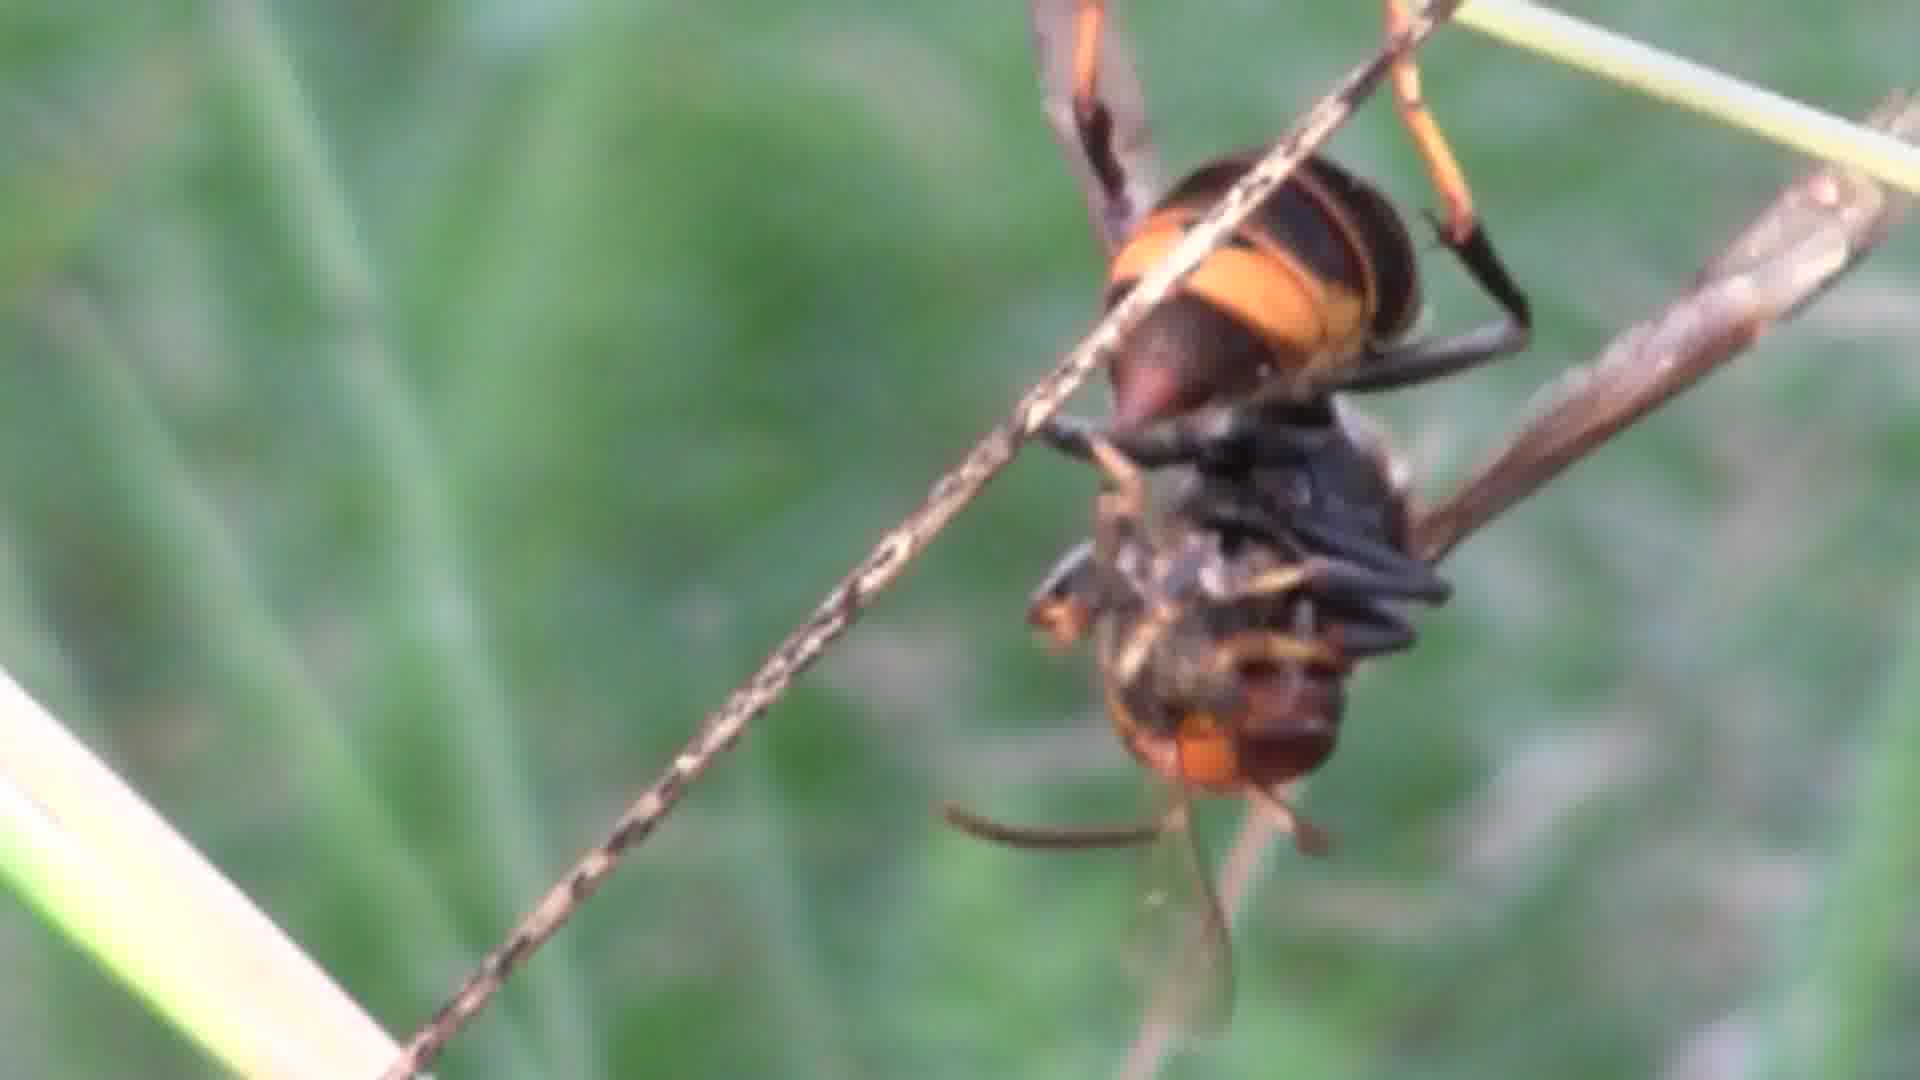hornet: (947, 0, 1585, 874)
